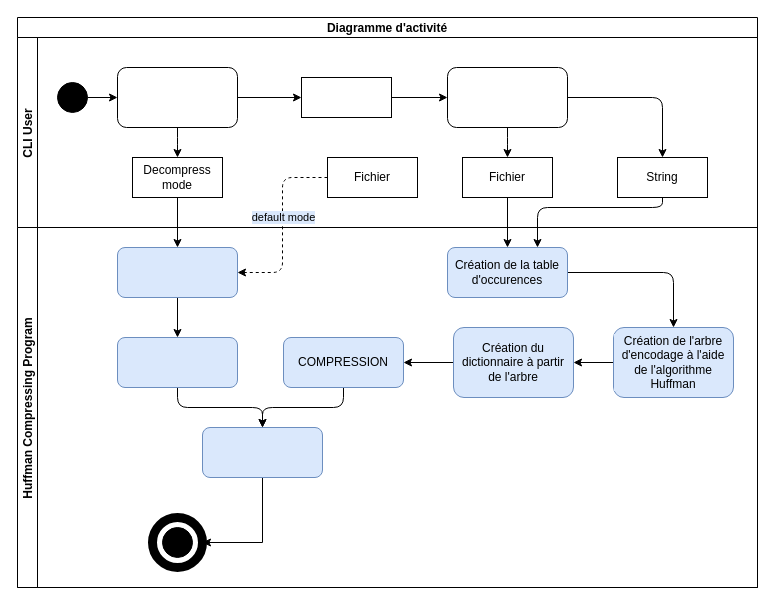
The diagram is 775 pixels wide and 605 high, and some of its shapes have lost their labels. The centre of each missing label's shape, as x and y in pixels:
"Choisir le mode" belongs at point 177,97.
"Compress mode" belongs at point 346,97.
"DÉCOMPRESSION" belongs at point 177,362.
"Extraction du dictionnaire" belongs at point 177,272.
"Sélectionner l'entrée" belongs at point 507,97.
"Écriture dans le fichier de sortie" belongs at point 262,452.
